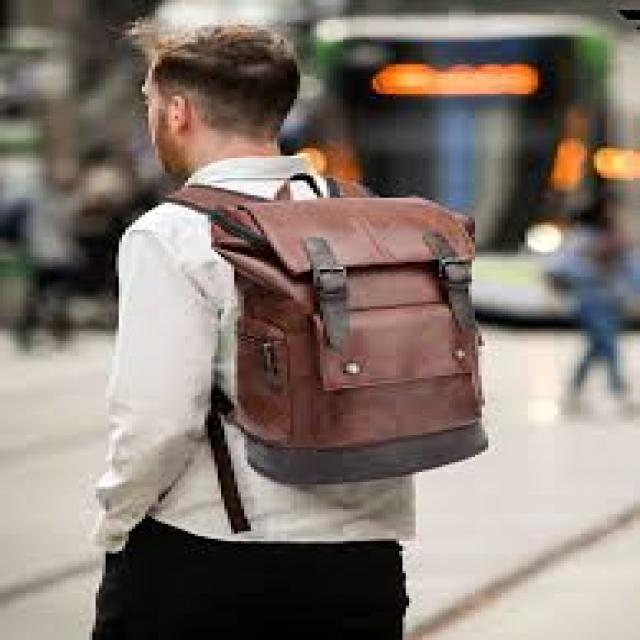backpack: (160, 171, 490, 488)
